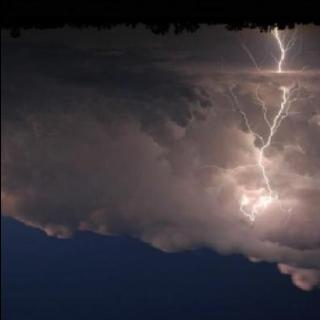Cumulonimbus: (0, 14, 320, 319)
